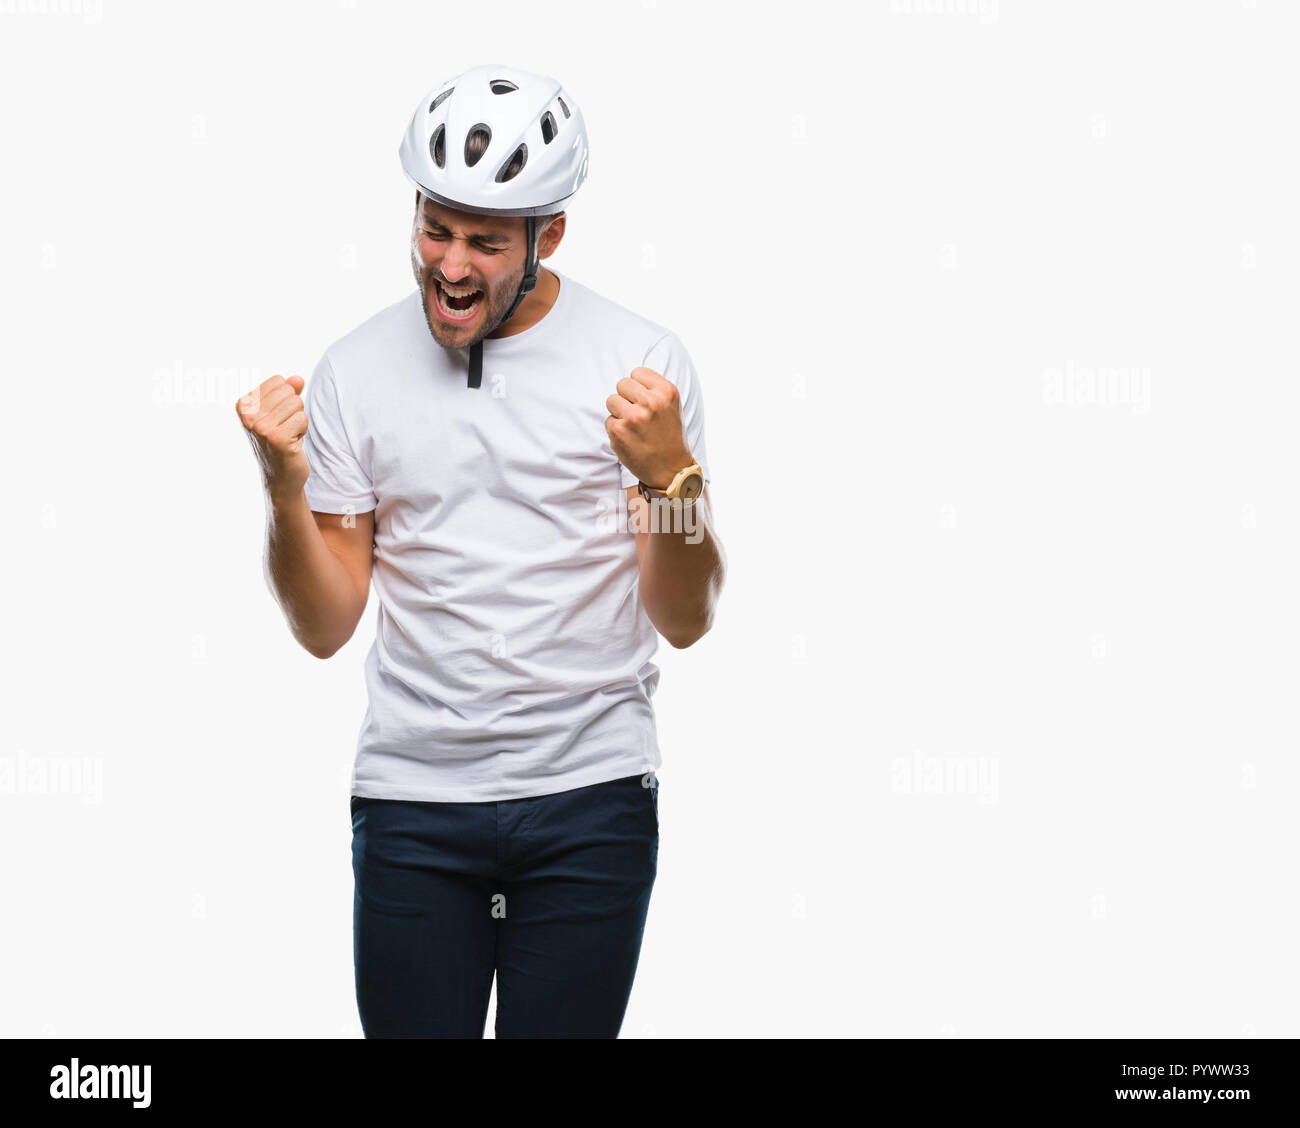helmet: (401, 65, 591, 349)
